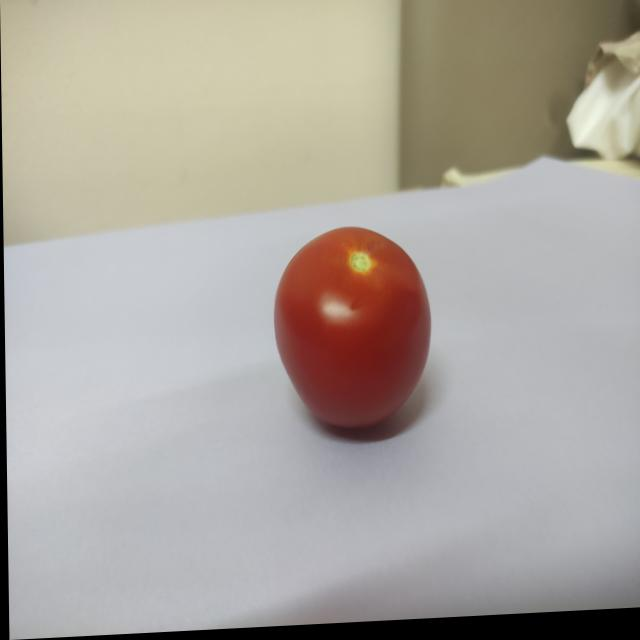kirmizi: (264, 210, 448, 450)
